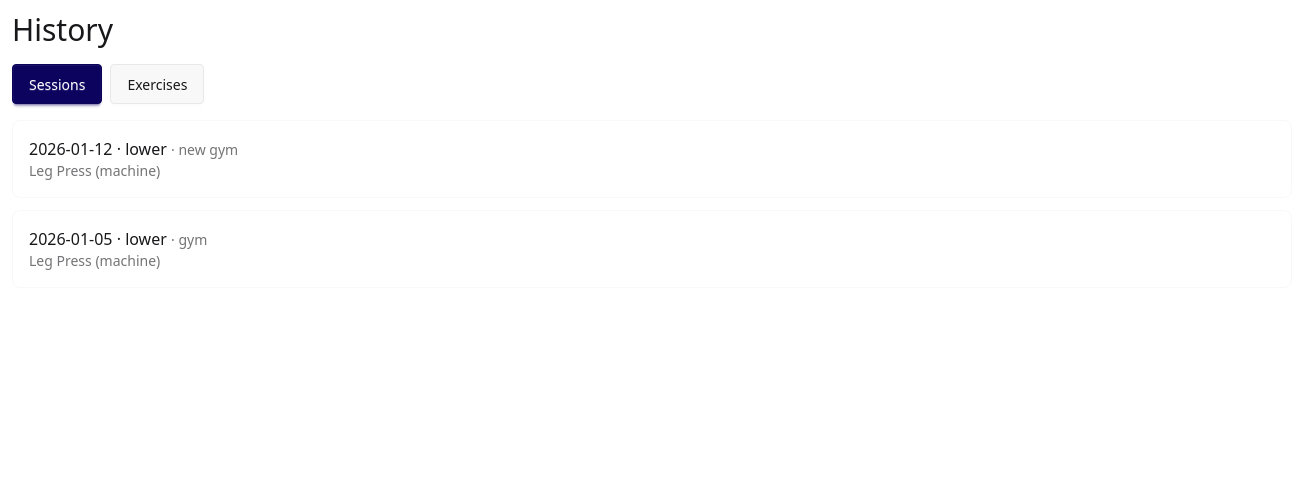
Test: History › lists Sessions newest first and opens one with its Sets, warmups distinct
Expected: the button "2026-01-05 · lower · gym Leg Press (machine)" is shown, [12,210,1292,288]
Click the button "2026-01-12 · lower · new gym Leg Press (machine)" at (100, 149), box [12,120,1292,198]
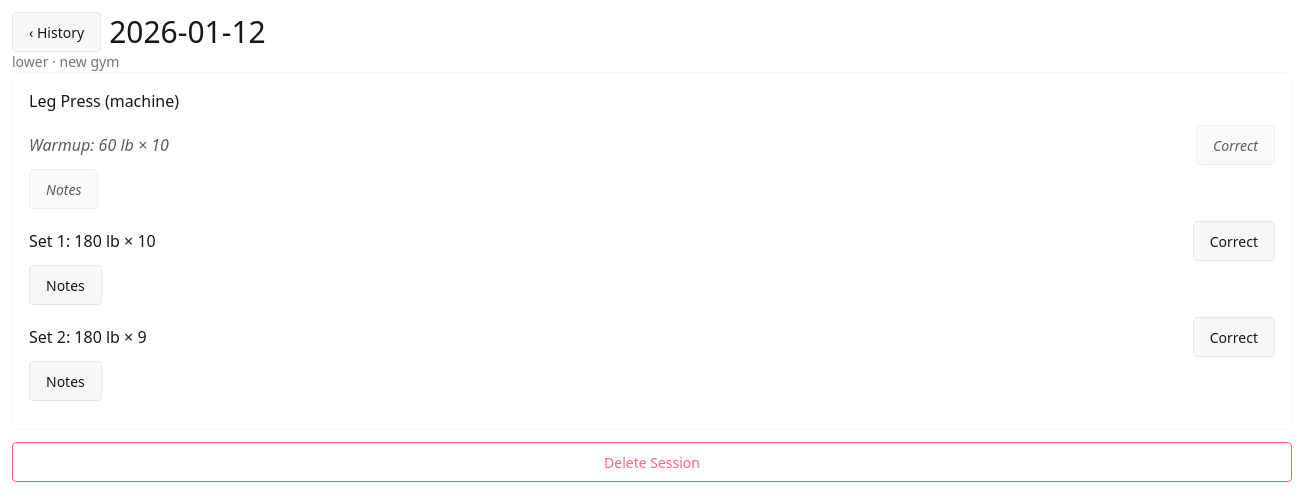
Now the text "Warmup: 60 lb × 10" is shown, box [29,134,169,156]
Now the text "Set 1: 180 lb × 10" is shown, box [29,230,156,252]
Now the text "Set 2: 180 lb × 9" is shown, box [29,326,147,348]
